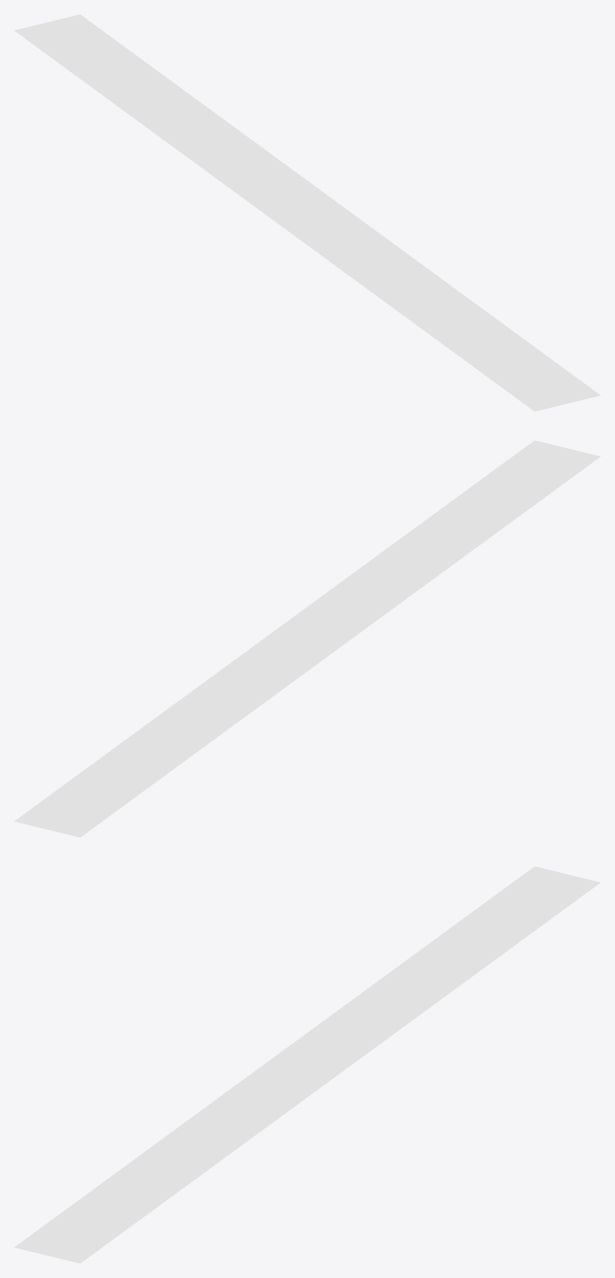
The model's file is boat_trail_A.fbx.
3 renders of one model, top to bottom at view 1: azimuth 30°, elevation 25°; view 2: azimuth 150°, elevation 25°; view 3: azimuth 330°, elevation 25°, orthographic.
Visible parts, largest first — view 1: trail_A_line, trail_A_fade; view 2: trail_A_line, trail_A_fade; view 3: trail_A_line, trail_A_fade.
Part boxes in pixels (box(x1,y1,x2,y2)): trail_A_line: box(14, 14, 480, 323); trail_A_fade: box(415, 308, 600, 411); trail_A_line: box(14, 528, 480, 837); trail_A_fade: box(415, 440, 600, 543); trail_A_line: box(134, 866, 600, 1175); trail_A_fade: box(14, 1160, 199, 1263).
Size of the model in its own units: 76.2 by 0 by 1037.
